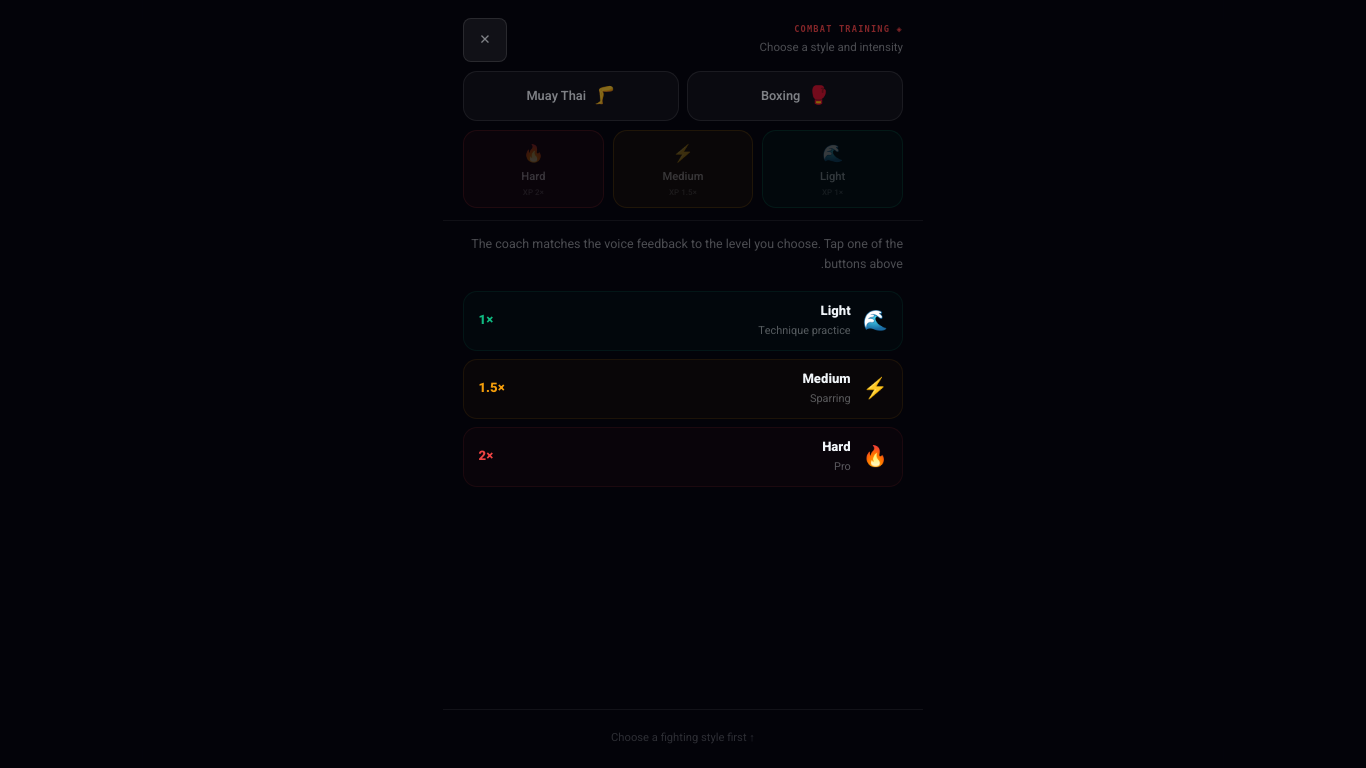
Scenario: English Workouts tab has no Hebrew › free training: style and intensity picker
The width and height of the screenshot is (1366, 768).
Click the text "Muay Thai" at (556,96), box [526,87,586,105]
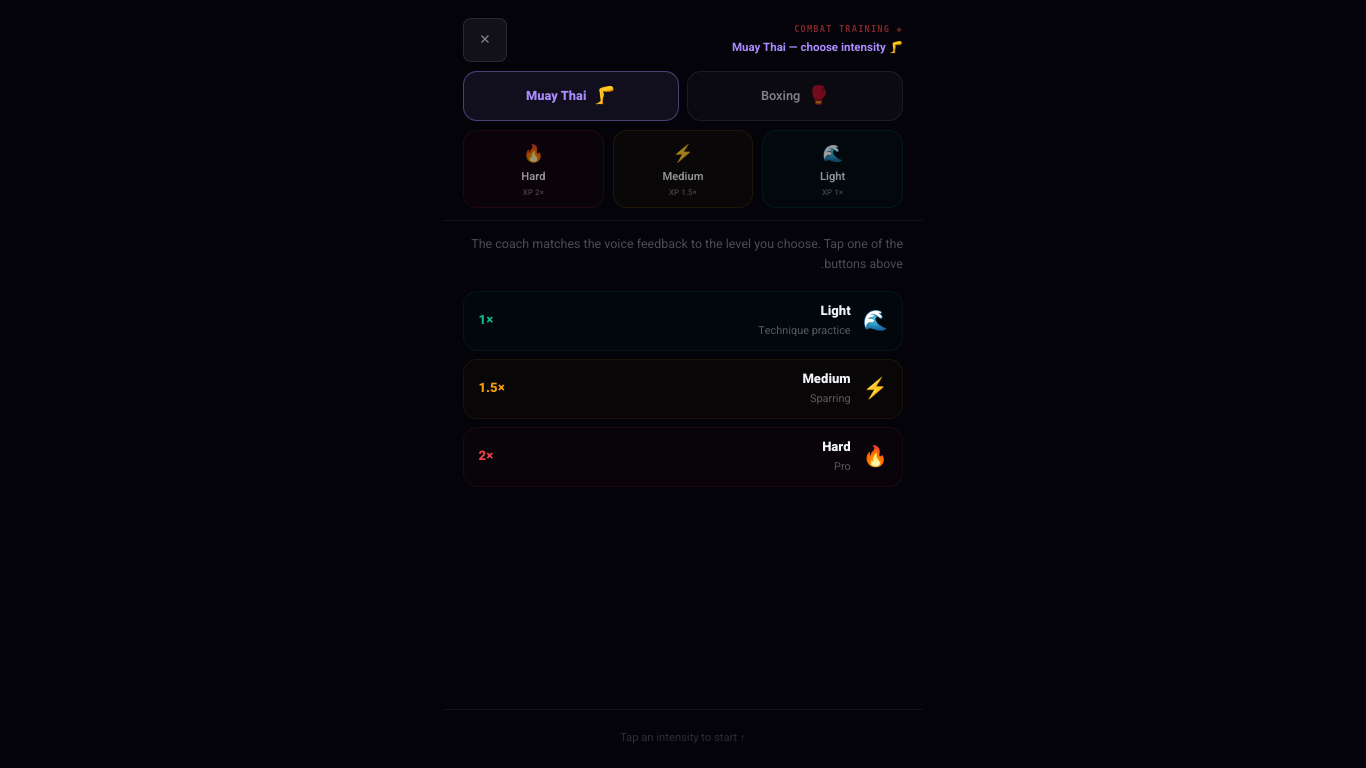
Now the text "🦵 Muay Thai — choose intensity" is shown, box [732,39,903,56]
